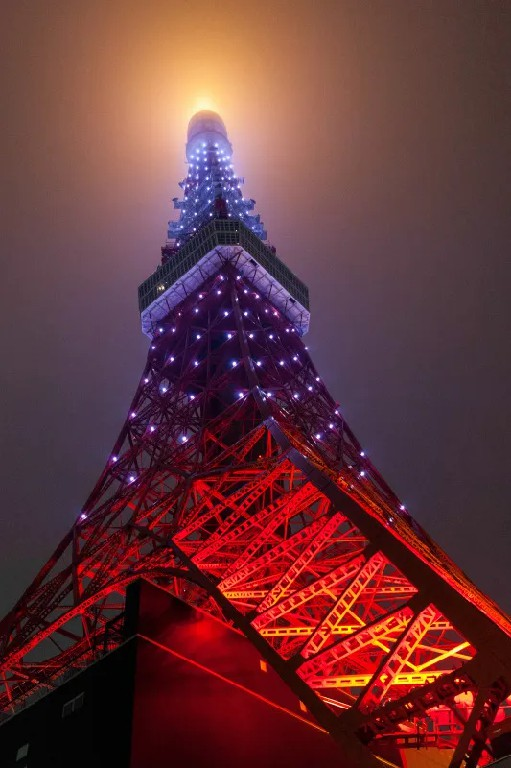Tokyo: (1, 96, 507, 766)
